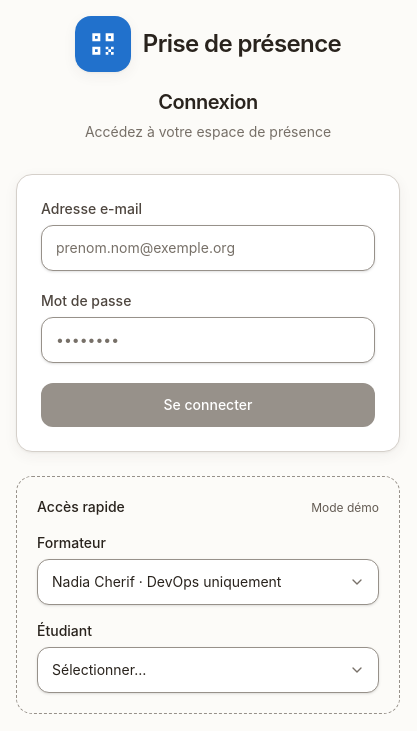
it: Connexion — accès rapide (jeu de démonstration) › choisir un formateur remplit e-mail et mot de passe
(page scrolled)
Select "Nadia Cherif · DevOps uniquement" in the dropdown with id "demo-formateur" at (208, 582), box [37,559,379,605]
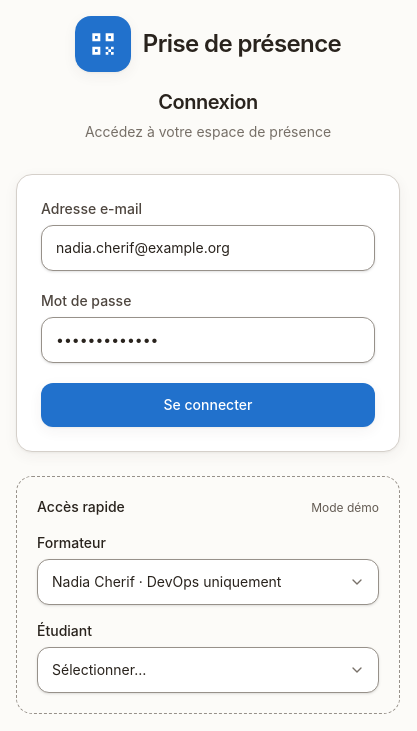
Result: the field with id "email" holds "nadia.cherif@example.org" at [41,225,375,271]
Result: the password field with id "mot-de-passe" holds "Formateur123!" at [41,317,375,363]
